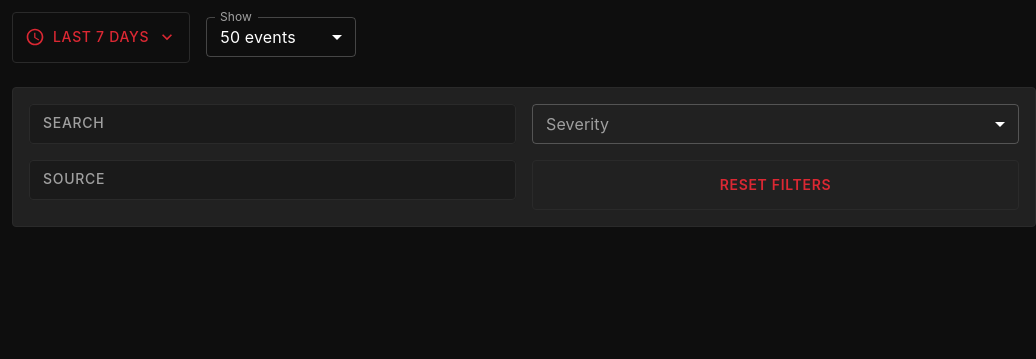
Test: UserEventsFilters › should render severity filter options
Click the dropdown named "severity" at (776, 124), box 532,104 -> 1019,144
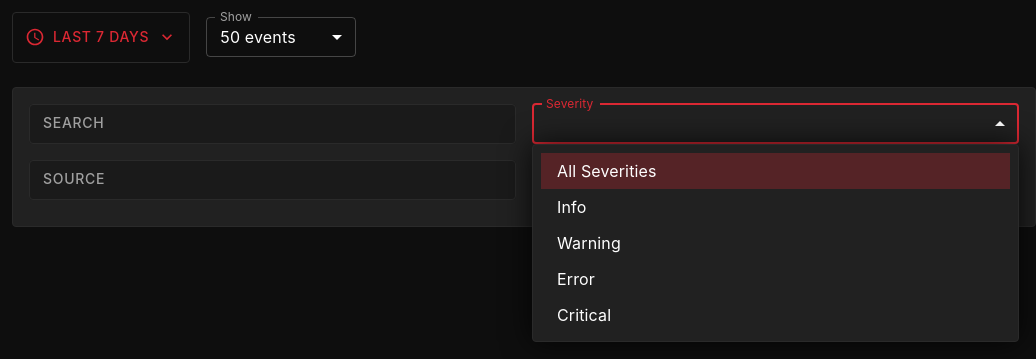
Check: the option "All Severities" is shown, box 541,153 -> 1010,189
Check: the option "Info" is shown, box 557,197 -> 586,217
Check: the option "Warning" is shown, box 557,233 -> 621,253
